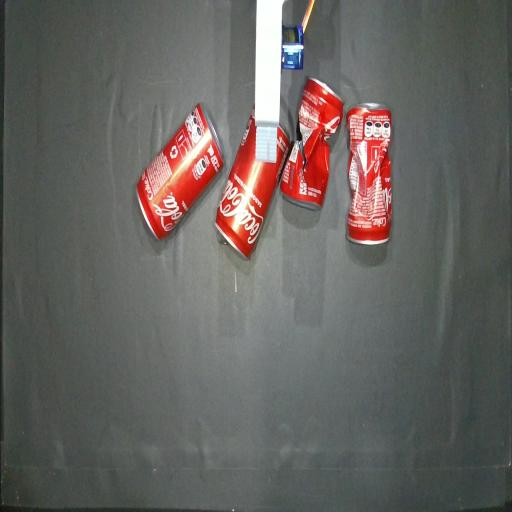lata: (136, 104, 224, 239), (215, 107, 290, 257)
lata_defectuoso: (280, 77, 344, 210), (345, 102, 392, 244)
